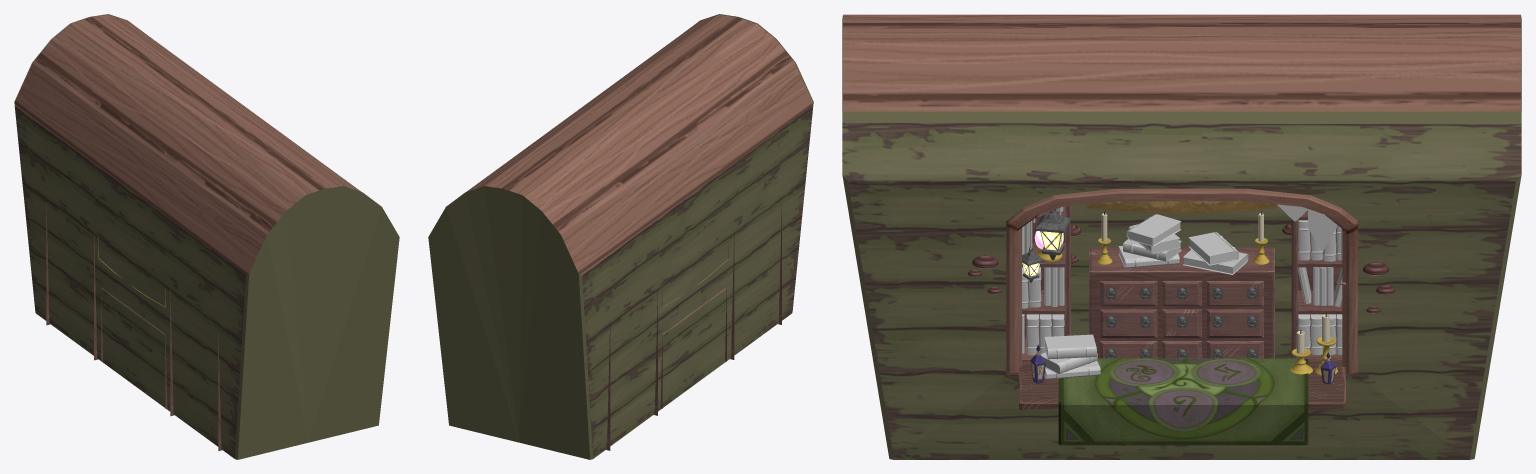
File: Shopen_sp3_finicht.fbx
3 renders of one model, left to right at view 1: azimuth 30°, elevation 25°; view 2: azimuth 150°, elevation 25°; view 3: azimuth 270°, elevation 25°, orthographic. The views are drawn at different scales.
Visible parts, largest first — view 1: Cube.032, Cube.037; view 2: Cube.032, Cube.037; view 3: Cube.032, Cube.034, Cube.037, Cube.083, Cube.049, Cube.072, Cube.033, Cube.069, Cylinder.021, Cube.038, Cube.050, Cylinder.027.
Part boxes in pixels (bbox=[...]): Cube.032: bbox=[14, 14, 399, 459]; Cube.037: bbox=[46, 202, 222, 450]; Cube.032: bbox=[428, 14, 813, 459]; Cube.037: bbox=[606, 204, 781, 450]; Cube.032: bbox=[842, 14, 1521, 459]; Cube.034: bbox=[1058, 358, 1308, 445]; Cube.037: bbox=[1022, 206, 1342, 361]; Cube.083: bbox=[1022, 209, 1337, 384]; Cube.049: bbox=[1040, 214, 1238, 373]; Cube.072: bbox=[1022, 207, 1342, 355]; Cube.033: bbox=[1019, 282, 1345, 410]; Cube.069: bbox=[1022, 220, 1341, 354]; Cylinder.021: bbox=[968, 211, 1395, 353]; Cube.038: bbox=[1086, 201, 1279, 213]; Cube.050: bbox=[1044, 239, 1248, 379]; Cylinder.027: bbox=[1030, 204, 1342, 260].
Size of the model in its own units: 1200 by 1488 by 2374.
